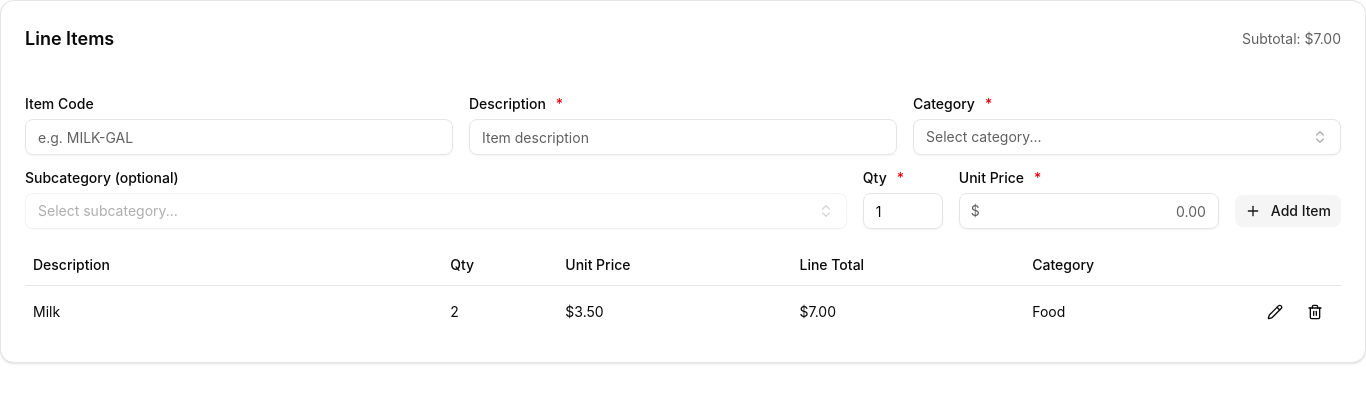
Scenario: LineItemsSection › enters edit mode when edit button is clicked
Click the button named "edit". click: (1275, 312)
box: [1257, 294, 1293, 330]
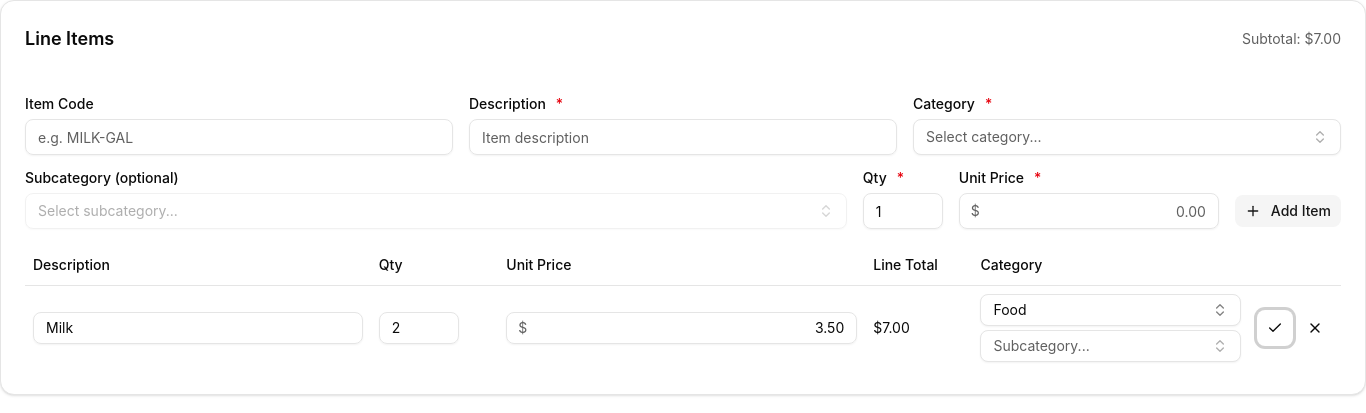
Check: the field named "Edit description" is shown, box [33, 312, 363, 344]
Check: the field named "Edit quantity" is shown, box [379, 312, 459, 344]
Check: the field named "Edit unit price" is shown, box [506, 312, 857, 344]
